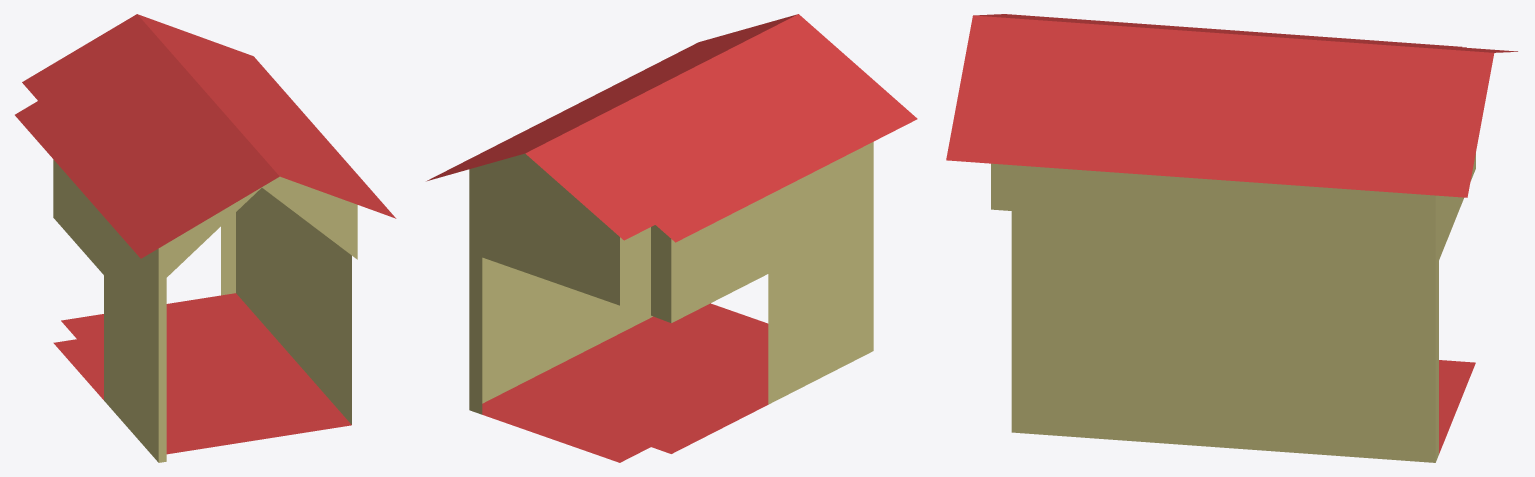
3 renders of one model, left to right at view 1: azimuth 30°, elevation 25°; view 2: azimuth 150°, elevation 25°; view 3: azimuth 270°, elevation 25°, orthographic. The views are drawn at different scales.
Size of the model in its own units: 16.76 by 22.14 by 15.39.
